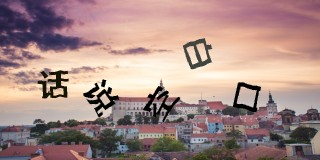口: (232, 81, 260, 111)
白: (183, 37, 213, 70)
空: (143, 85, 180, 122)
话: (38, 69, 70, 100)
说: (83, 77, 120, 118)
